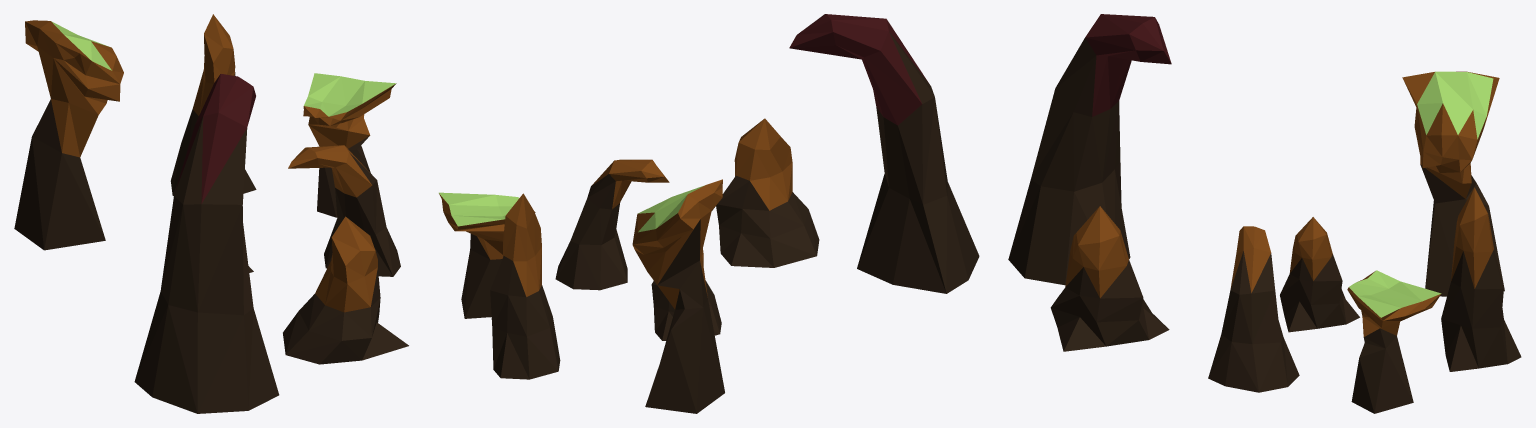
Rendered from Island_B01_Formation01.fbx.
3 renders of one model, left to right at view 1: azimuth 30°, elevation 25°; view 2: azimuth 150°, elevation 25°; view 3: azimuth 270°, elevation 25°, orthographic. The views are drawn at different scales.
Parts seen in each view (by area): view 1: Island_B01_Spike_Formations1_Combi; view 2: Island_B01_Spike_Formations1_Combi; view 3: Island_B01_Spike_Formations1_Combi.
Boxes of the visible parts, x1,y1,x2,y2 form: Island_B01_Spike_Formations1_Combi: (14, 14, 408, 413); Island_B01_Spike_Formations1_Combi: (439, 14, 979, 413); Island_B01_Spike_Formations1_Combi: (1008, 14, 1521, 413).
Size of the model in its own units: 56.09 by 36.92 by 64.17.
